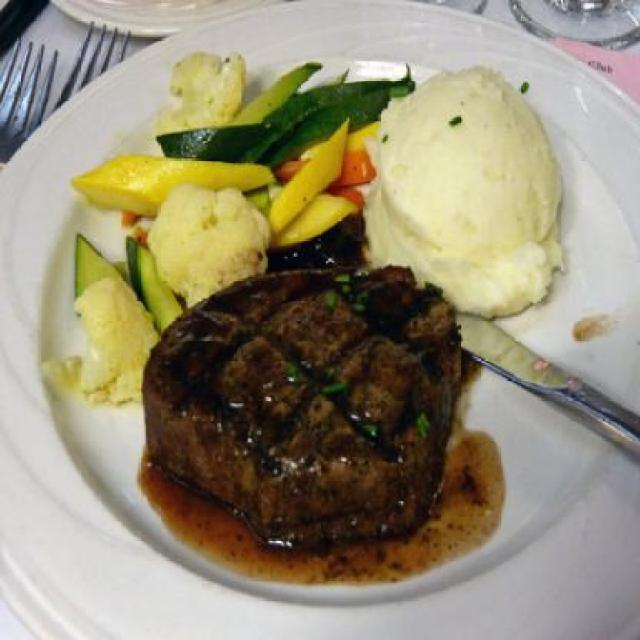Steak: (152, 250, 450, 535)
